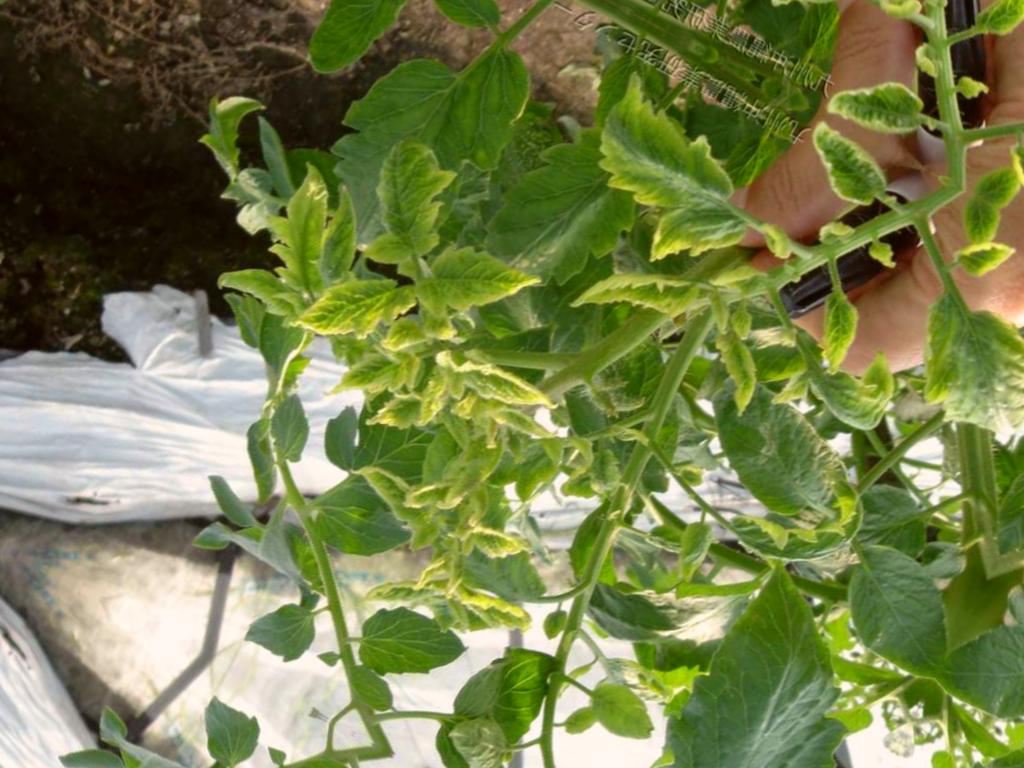Tomato leaf yellow virus: (535, 55, 794, 291), (557, 209, 750, 384), (865, 256, 1024, 462), (397, 220, 549, 356), (344, 126, 476, 274), (749, 325, 899, 449), (290, 247, 414, 368), (439, 335, 570, 438), (786, 113, 905, 222), (453, 504, 541, 585)
